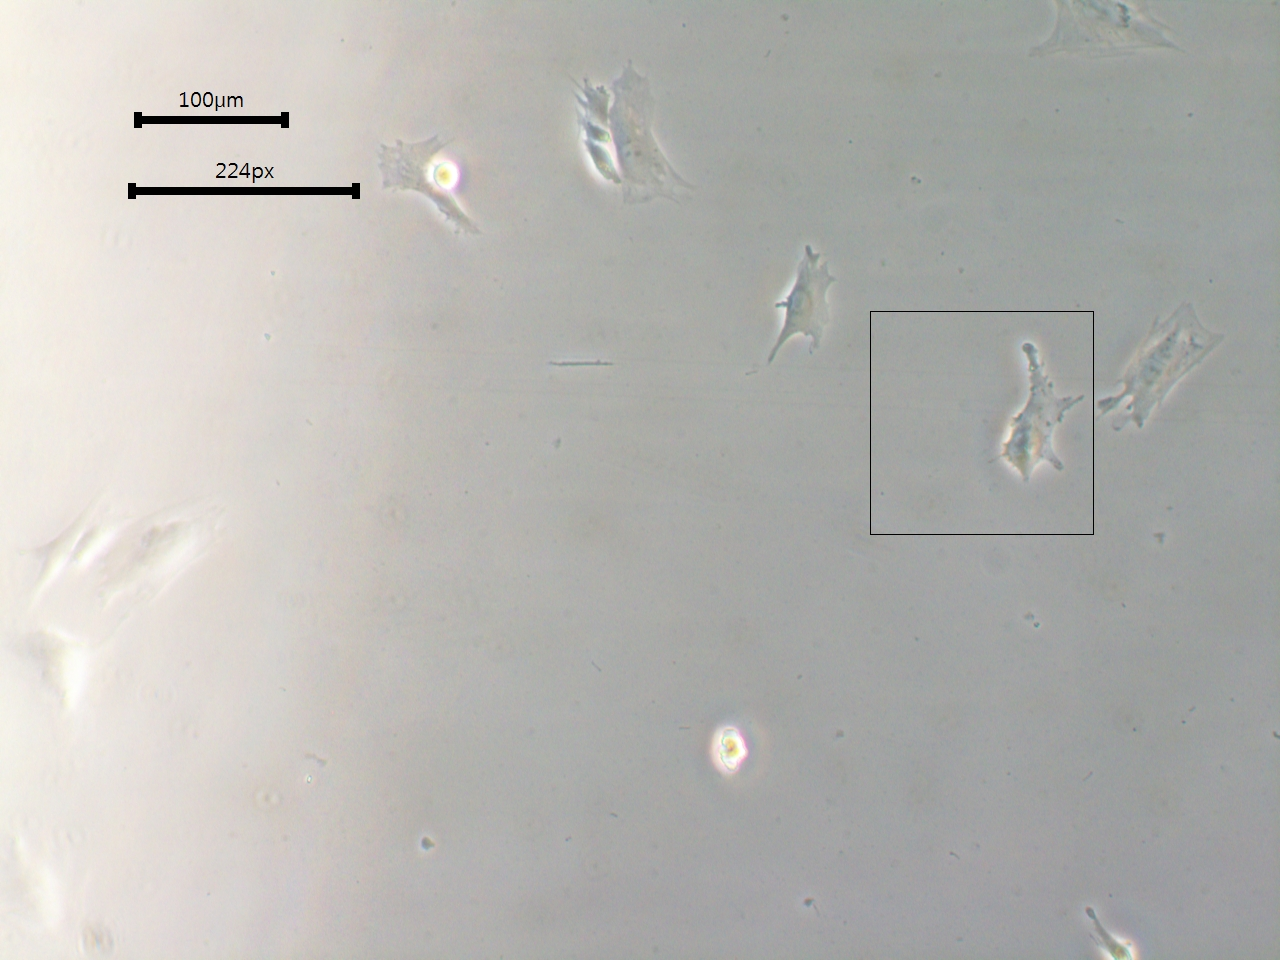dividing: (1101, 293, 1235, 442)
medium-spread: (990, 330, 1089, 478), (369, 126, 479, 248), (610, 61, 689, 218), (752, 237, 845, 367)
